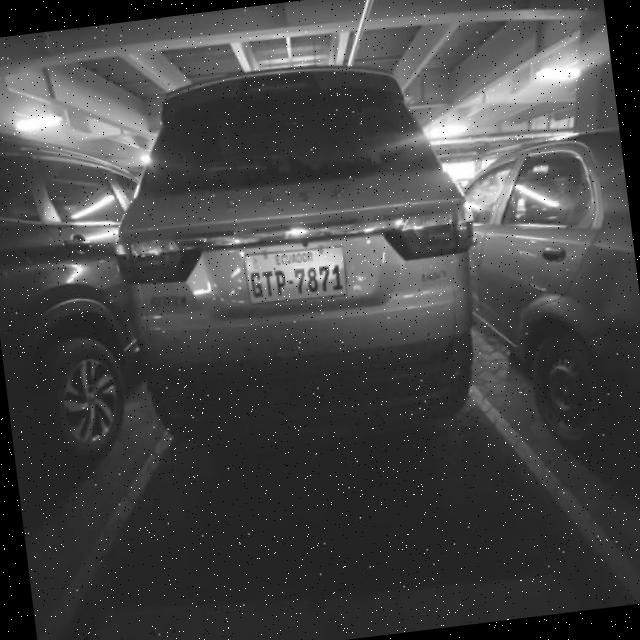Placa: (243, 242, 347, 303)
